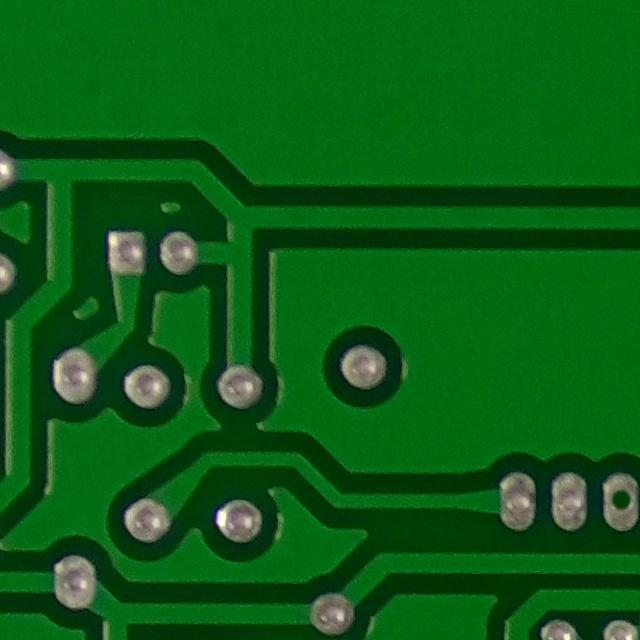missing_hole: (597, 468, 640, 532)
